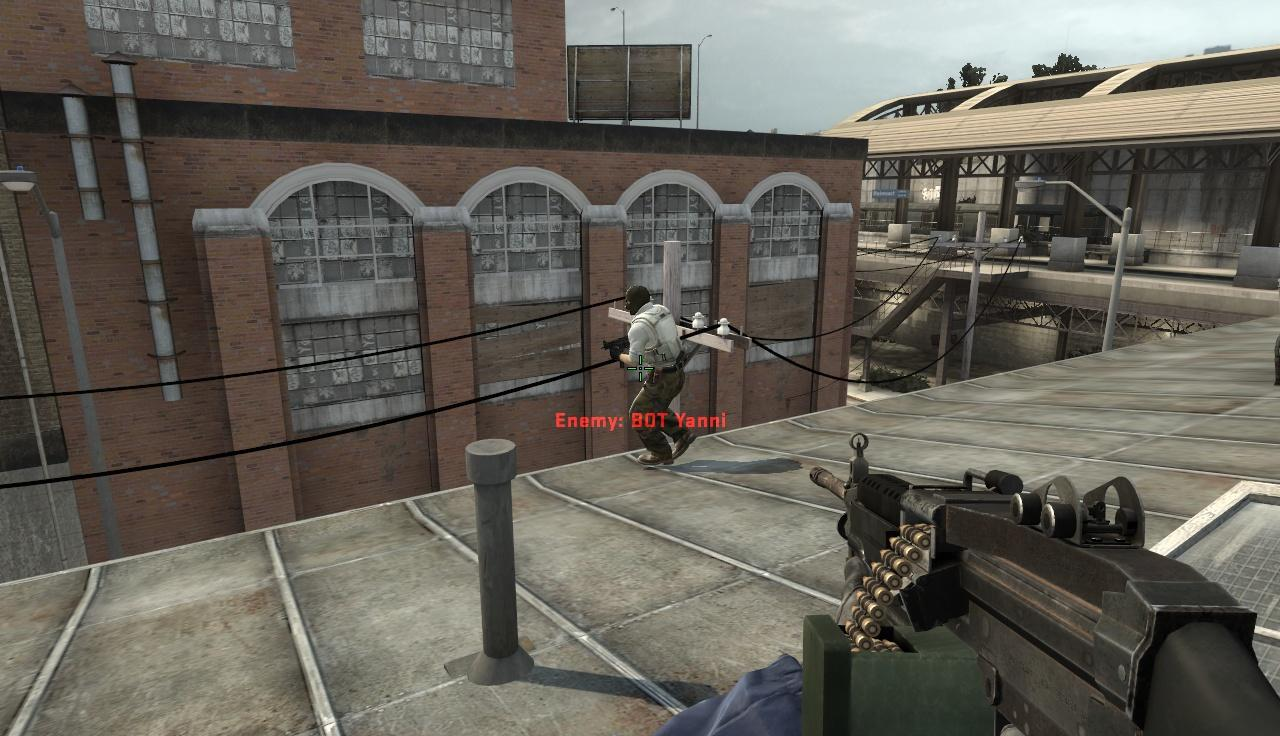rifle: (807, 429, 1280, 736)
tt: (613, 284, 692, 466)
tthead: (624, 286, 649, 316)
